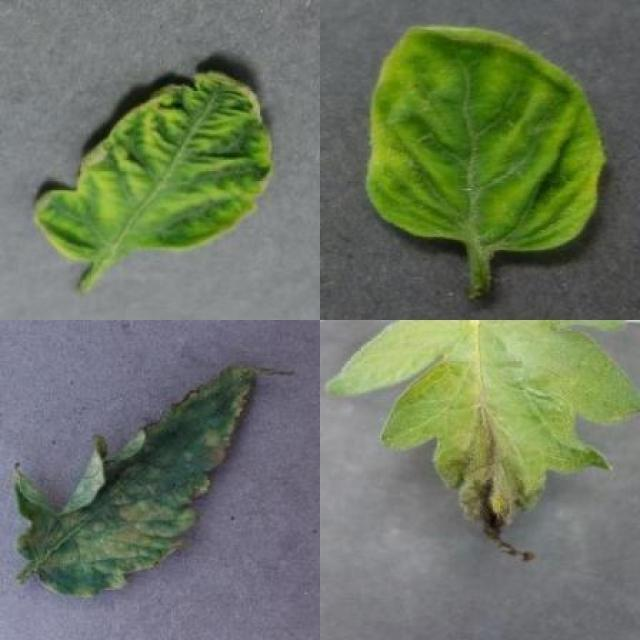Late Blight: (323, 320, 640, 564)
Leaf Mold: (12, 360, 258, 600)
Yellow Leaf Curl Virus: (368, 25, 608, 254), (32, 70, 274, 263)
